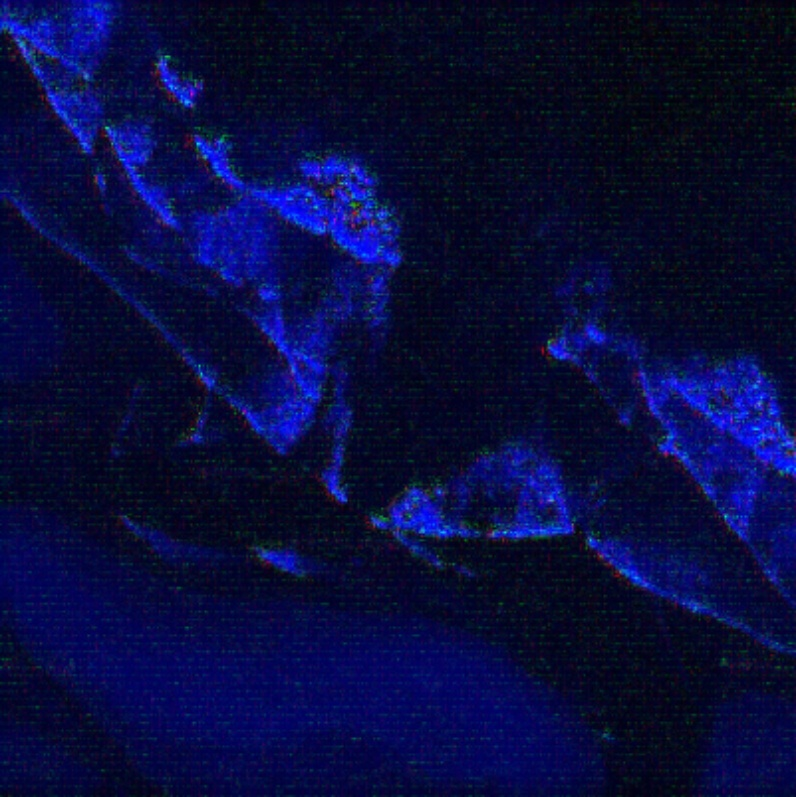rip_current: (268, 143, 598, 583)
